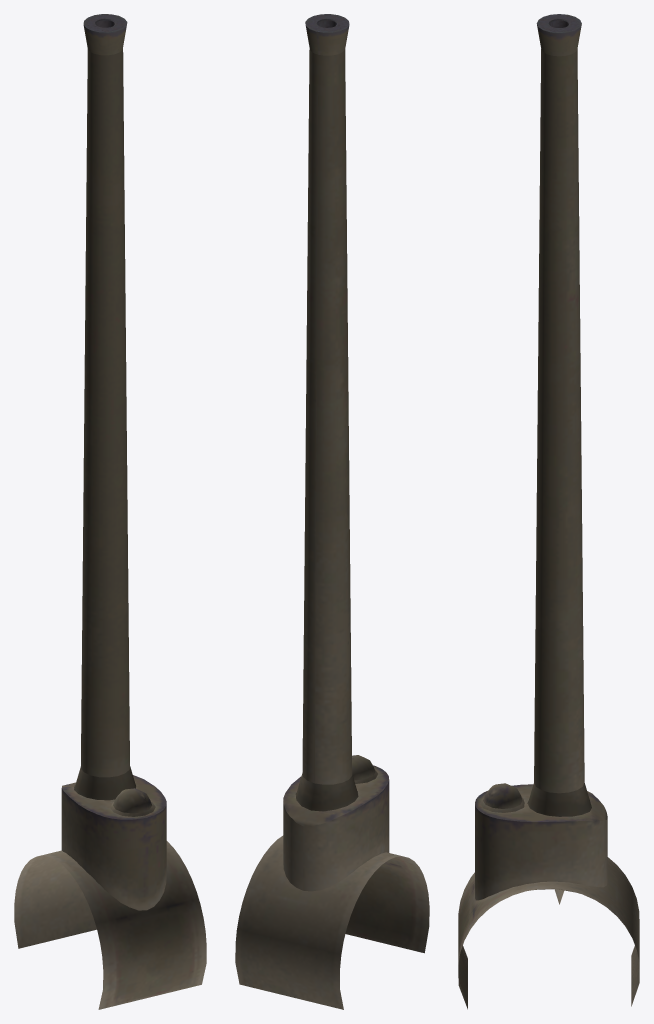
File: Gun_07.glb
The picture shows the model from 3 angles, left to right: view 1: azimuth 30°, elevation 25°; view 2: azimuth 150°, elevation 25°; view 3: azimuth 270°, elevation 25°; orthographic projection. The views are drawn at different scales.
Parts seen in each view (by area): view 1: set_0_group_0; view 2: set_0_group_0; view 3: set_0_group_0.
Boxes of the visible parts, x1,y1,x2,y2 form: set_0_group_0: (14, 14, 206, 1009); set_0_group_0: (235, 14, 429, 1009); set_0_group_0: (458, 14, 639, 1009).
Bounding box in the file's own units: 0.2385 × 2.07 × 0.355.
Materials: 1 (1 with a texture image).
